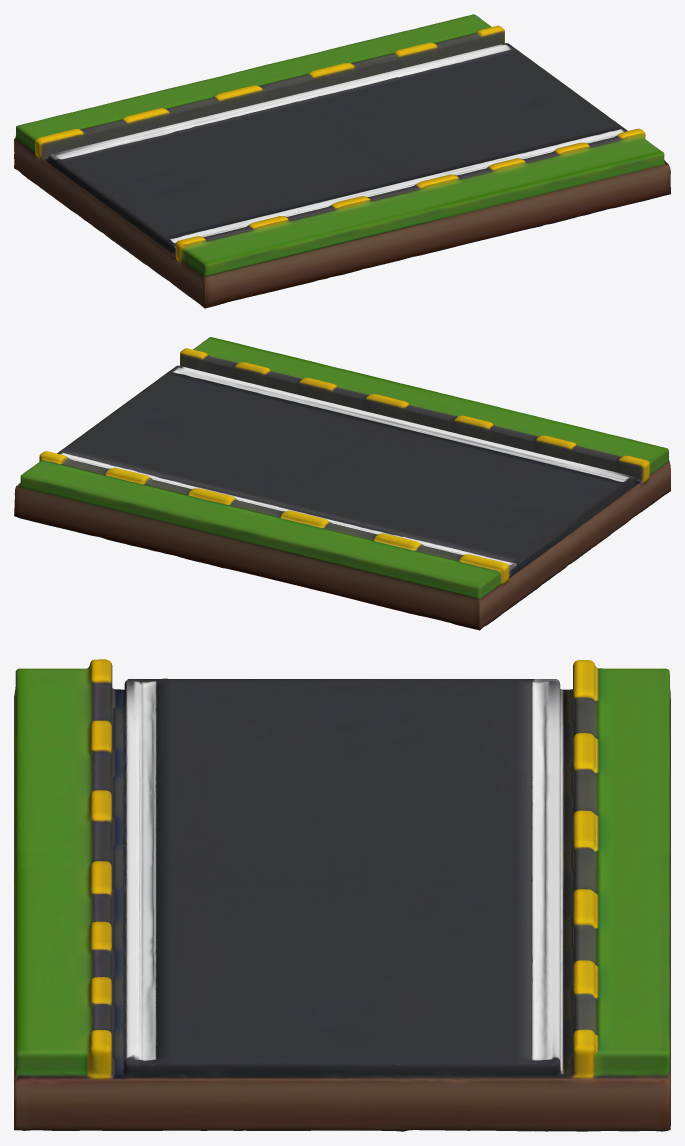
The model's file is road_segment_3d_model.fbx.
3 views of the same model, one above another, from view 1: azimuth 30°, elevation 25°; view 2: azimuth 150°, elevation 25°; view 3: azimuth 270°, elevation 25° (orthographic). The views are drawn at different scales.
Visible parts, largest first — view 1: tripo_node_f773393c; view 2: tripo_node_f773393c; view 3: tripo_node_f773393c.
Part boxes in pixels (<box>): tripo_node_f773393c: <box>14,14,670,308</box>; tripo_node_f773393c: <box>14,337,670,630</box>; tripo_node_f773393c: <box>14,659,670,1131</box>.
Size of the model in its own units: 0.9792 by 0.0955 by 0.6923.
